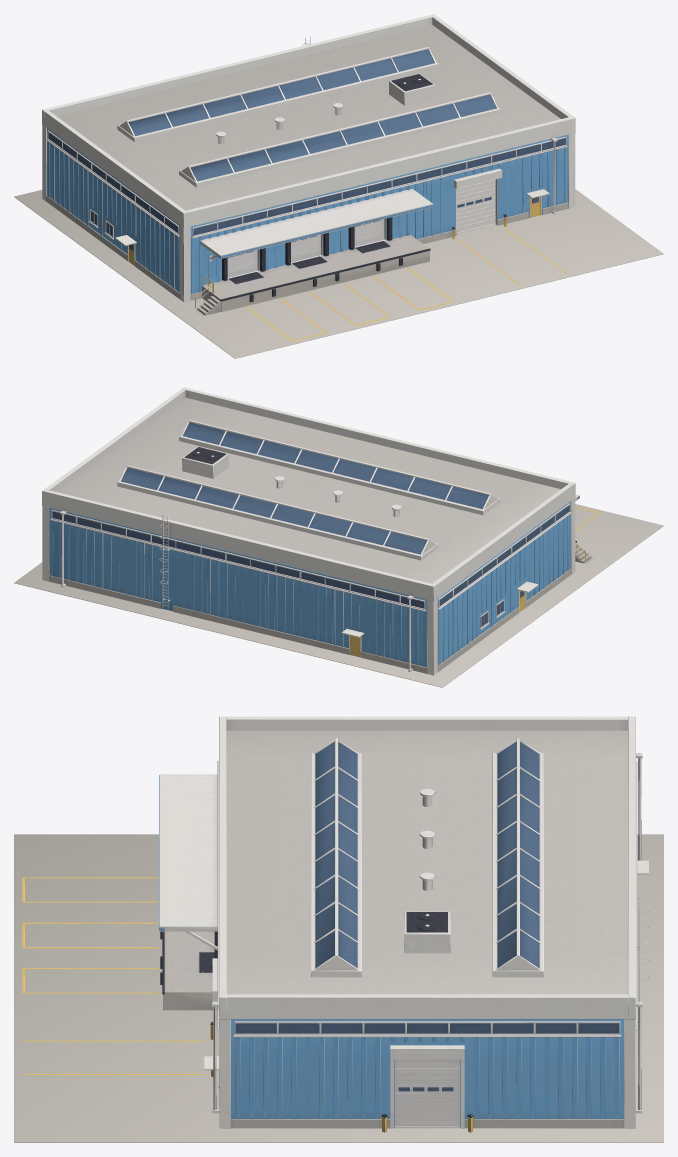
The model's file is warehouse-light.glb.
The picture shows the model from 3 angles, top to bottom: view 1: azimuth 30°, elevation 25°; view 2: azimuth 150°, elevation 25°; view 3: azimuth 270°, elevation 25°; orthographic projection. The views are drawn at different scales.
Visible parts, largest first — view 1: warehouse_body, warehouse_hall, warehouse_yard_slab, warehouse_roller_door; view 2: warehouse_body, warehouse_hall, warehouse_yard_slab; view 3: warehouse_hall, warehouse_body, warehouse_yard_slab.
Part boxes in pixels (left/top/right/bottom): warehouse_body: left=42, top=14, right=575, bottom=341; warehouse_hall: left=46, top=24, right=568, bottom=295; warehouse_yard_slab: left=14, top=189, right=663, bottom=358; warehouse_roller_door: left=456, top=179, right=495, bottom=234; warehouse_body: left=42, top=387, right=600, bottom=675; warehouse_hall: left=49, top=397, right=570, bottom=667; warehouse_yard_slab: left=14, top=504, right=663, bottom=687; warehouse_hall: left=226, top=730, right=628, bottom=1127; warehouse_body: left=22, top=716, right=649, bottom=1132; warehouse_yard_slab: left=14, top=834, right=663, bottom=1142.
Bounding box in the file's own units: 44 × 9.54 × 39.3.
5 materials, 2 textured.
